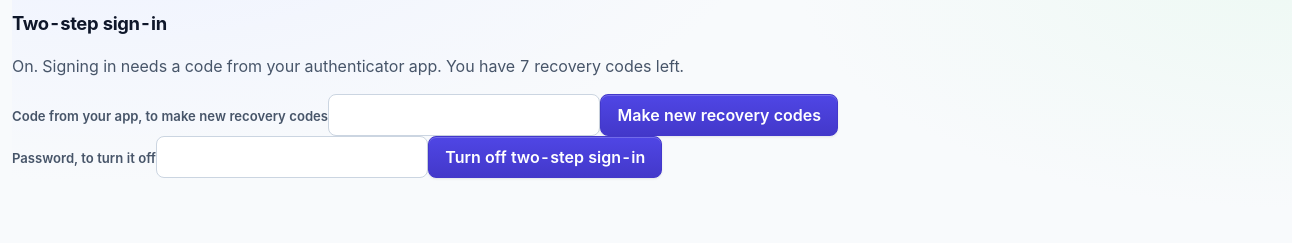
Test: TwoStepSection › makes new recovery codes and turns it off with the password
The image size is (1292, 243).
In the field labelled "Code from your app, to make new recovery codes": (464, 115) [328, 94, 600, 136], type "111111"
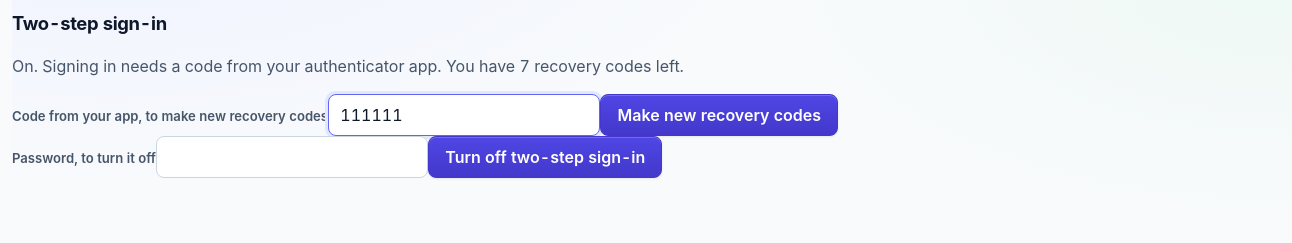
Click the button "Make new recovery codes": (719, 115) [600, 94, 838, 136]
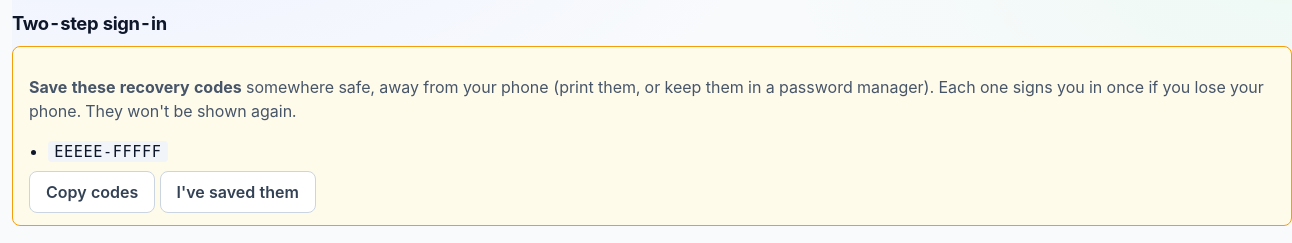
Result: the element "recovery codes" shows "EEEEE-FFFFF" at [54, 143, 162, 161]
